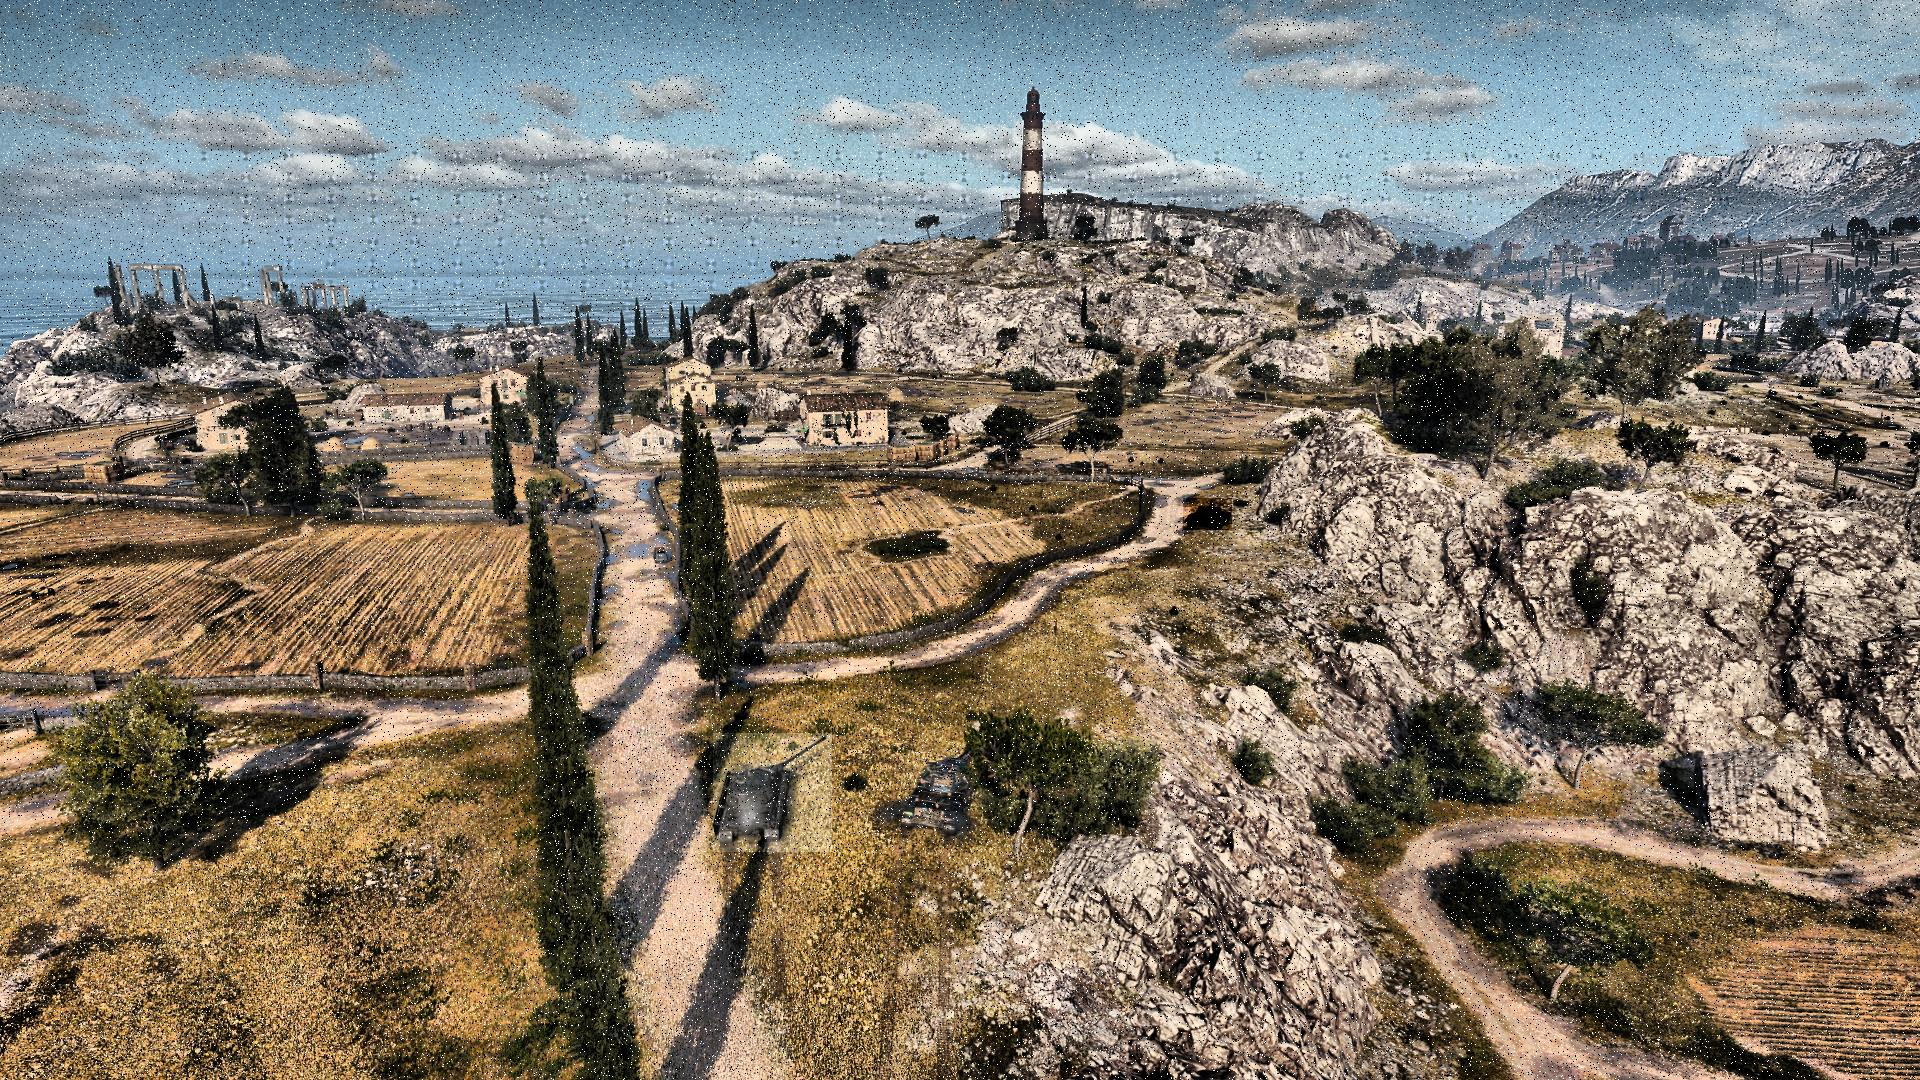military-vehicle: (713, 733, 832, 852), (902, 746, 986, 843), (1183, 498, 1232, 530)
